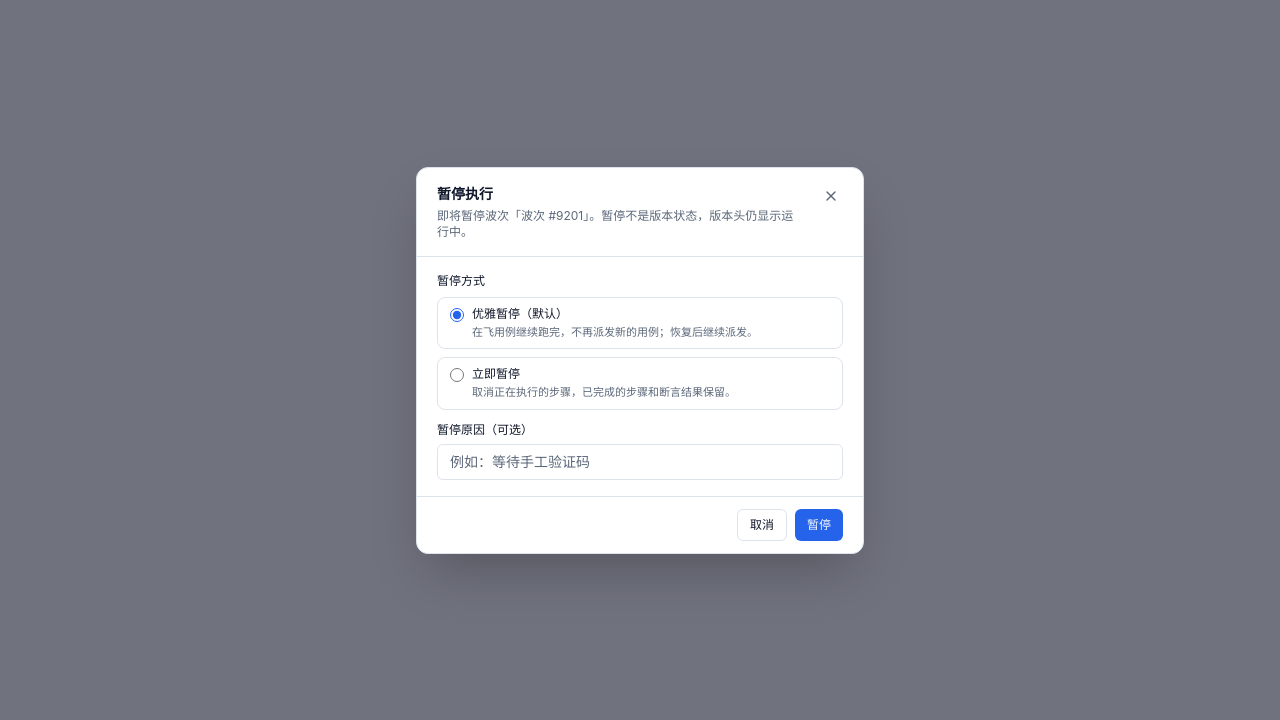
Test case: PauseDialog › disables the actions while the pause request is in flight
Click the button "暂停" at (819, 524), box [795, 508, 843, 540]
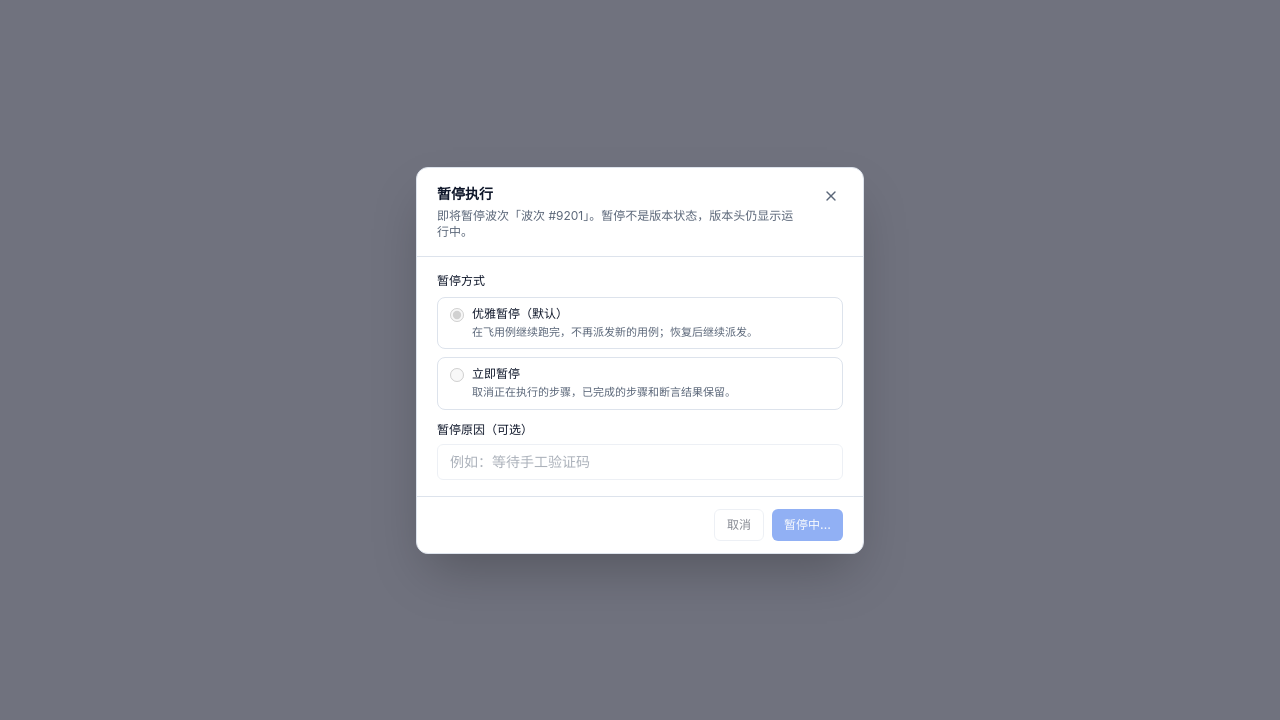
Expected: the button "暂停中…" is disabled, [772, 508, 843, 540]
Expected: the button "取消" is disabled, [714, 508, 764, 540]
